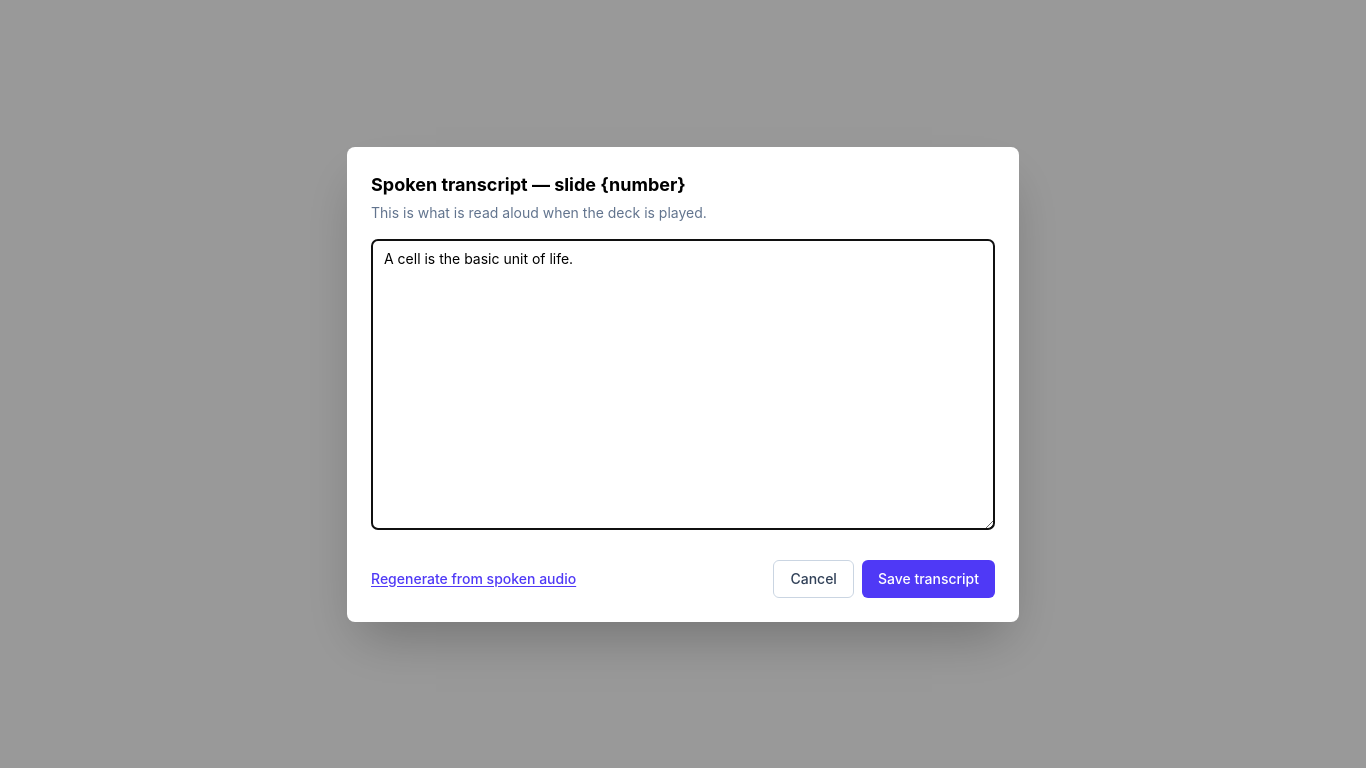
TranscriptEditorModal › keeps the current text and reports a failed regeneration
What coordinates should you click on to do the following:
click the button "Regenerate from spoken audio"
I would click on:
 (474, 578)
Its box is [371,568,576,588].
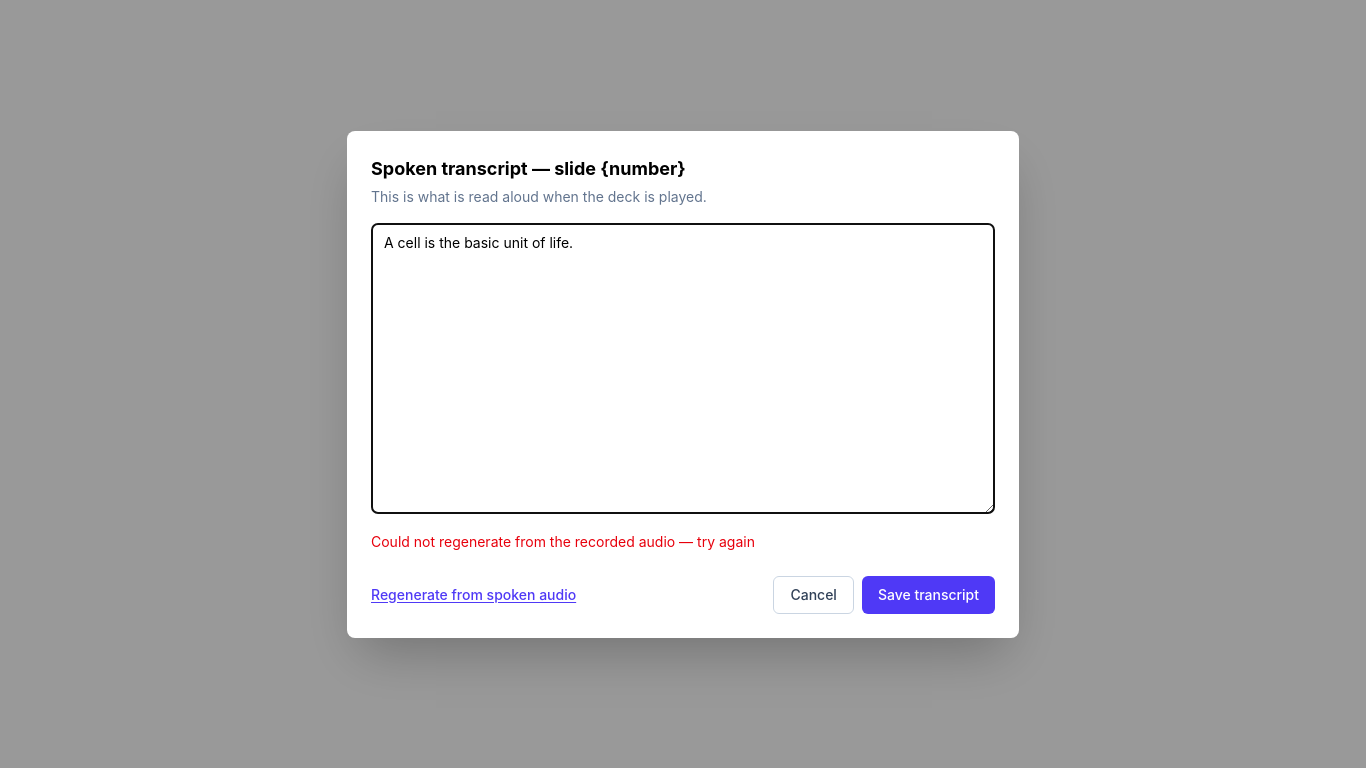
expect the text box named "Spoken transcript" holds "A cell is the basic unit of life.": met, box [371,222,995,514]
expect the message shows "Could not regenerate from the recorded audio": met, box [371,532,755,550]
